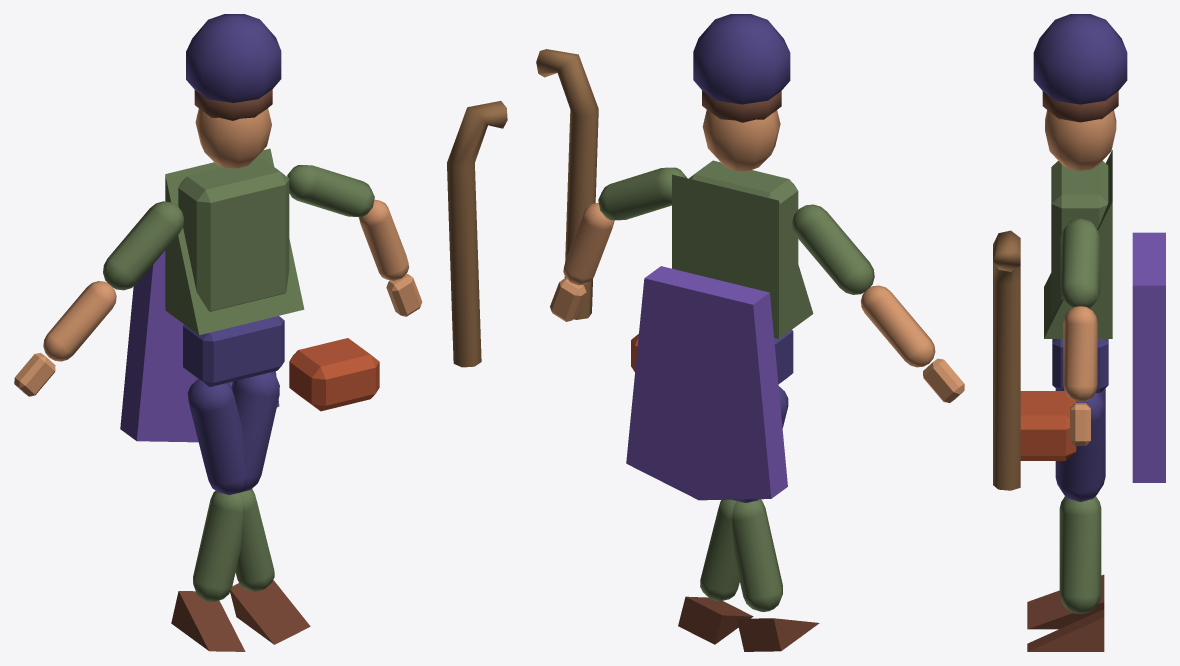
Rendered from adventurer.rustic.glb.
The picture shows the model from 3 angles, left to right: view 1: azimuth 30°, elevation 25°; view 2: azimuth 150°, elevation 25°; view 3: azimuth 270°, elevation 25°; orthographic projection.
Parts seen in each view (by area): view 1: torso, accessory.back, accessory.main-hand, accessory.head, tunic, pelvis, accessory.waist, thigh.left, shin.right, upper-arm.left, thigh.right, head (+9 smaller); view 2: accessory.back, tunic, accessory.head, accessory.main-hand, shin.right, upper-arm.left, head, forearm.left, upper-arm.right, torso, shin.left, forearm.right (+6 smaller); view 3: accessory.back, accessory.main-hand, accessory.head, shin.left, torso, accessory.waist, upper-arm.right, head, tunic, forearm.right, thigh.right, foot.left (+4 smaller).
Boxes of the visible parts, x1,y1,x2,y2 form: torso: (178, 158, 289, 311); accessory.back: (120, 250, 279, 442); accessory.main-hand: (447, 101, 507, 367); accessory.head: (186, 14, 281, 102); tunic: (165, 148, 304, 335); pelvis: (183, 316, 284, 386); accessory.waist: (289, 338, 379, 411); thigh.left: (187, 379, 244, 494); shin.right: (193, 491, 242, 602); upper-arm.left: (103, 201, 184, 290); thigh.right: (231, 371, 279, 492); head: (195, 108, 271, 168); accessory.back: (626, 266, 787, 500); tunic: (672, 174, 813, 338); accessory.head: (693, 14, 790, 104); accessory.main-hand: (536, 49, 598, 319); shin.right: (732, 499, 782, 611); upper-arm.left: (792, 204, 874, 294); head: (702, 110, 780, 170); forearm.left: (860, 285, 935, 367); upper-arm.right: (598, 167, 686, 220); torso: (689, 160, 798, 263); shin.left: (700, 499, 739, 601); forearm.right: (563, 202, 614, 285); accessory.back: (1132, 232, 1165, 482); accessory.main-hand: (993, 230, 1020, 490); accessory.head: (1033, 14, 1127, 104); shin.left: (1059, 497, 1101, 613); torso: (1051, 161, 1108, 314); accessory.waist: (1020, 391, 1076, 460); upper-arm.right: (1060, 218, 1100, 308); head: (1045, 110, 1116, 170); tunic: (1044, 150, 1112, 338); forearm.right: (1063, 306, 1097, 401); thigh.right: (1055, 393, 1105, 501); foot.left: (1027, 609, 1104, 651).
Size of the model in its own units: 2.52 by 3.28 by 0.83.
